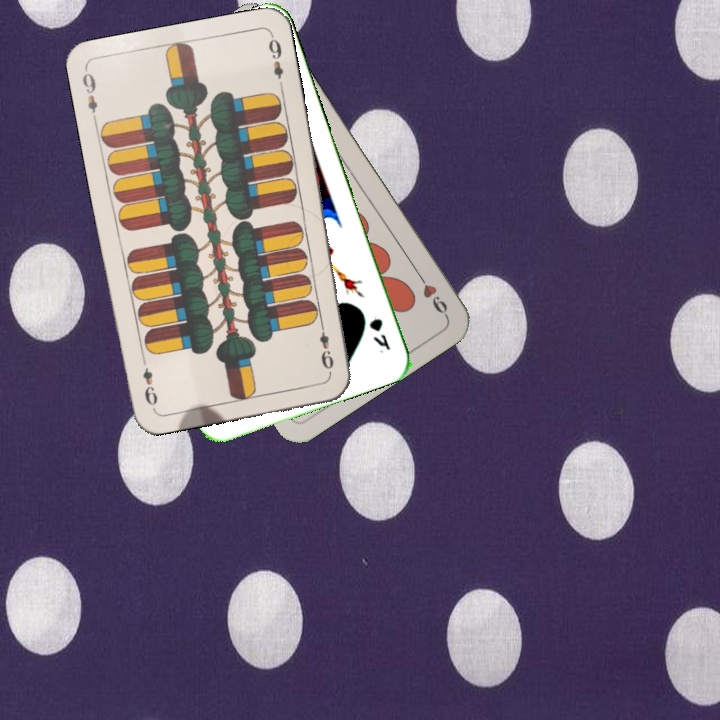E9: (78, 66, 100, 125), (316, 317, 337, 376)
GK: (365, 314, 393, 356)
H9: (412, 267, 451, 319)
